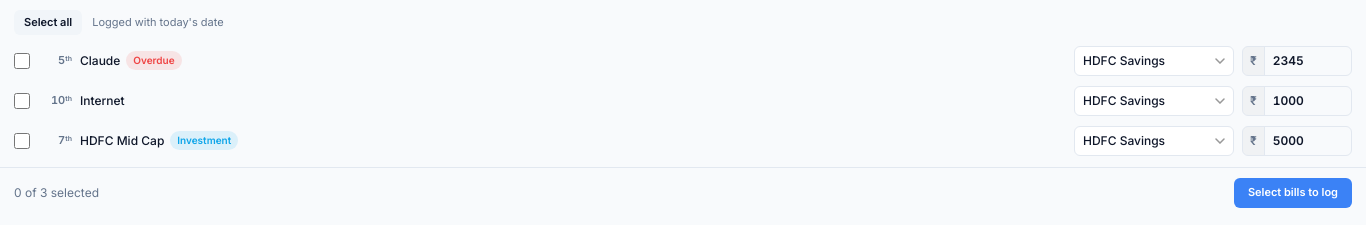
BulkPayList › select all ticks every listed bill
This screenshot has width=1366, height=225.
Click the button "Select all". click: click(48, 22)
box: [14,10,82,34]
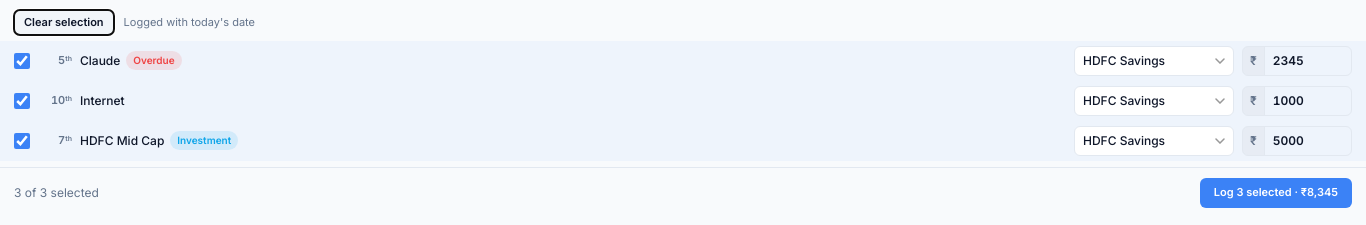
Now the checkbox named "Select Claude" is checked, box [14,52,30,68]
Now the checkbox named "Select Internet" is checked, box [14,92,30,108]
Now the checkbox named "Select HDFC Mid Cap" is checked, box [14,132,30,148]
